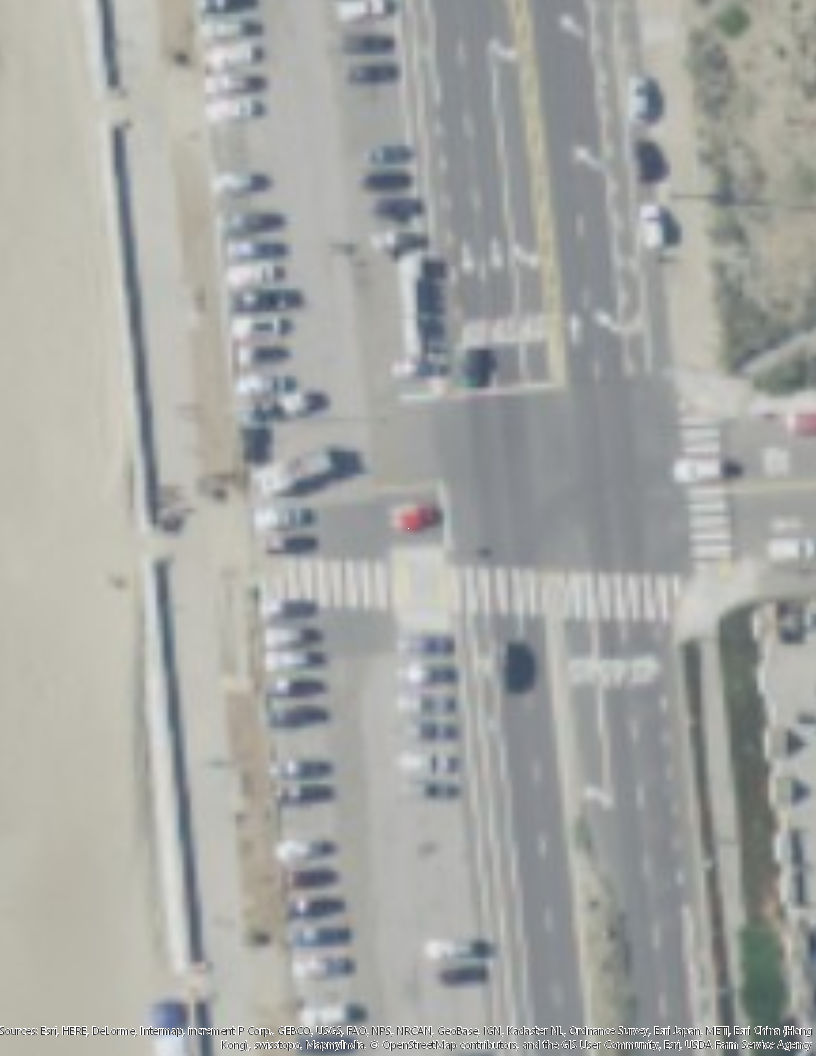zebracross: (437, 567, 685, 620), (678, 417, 738, 570), (270, 554, 393, 610)
